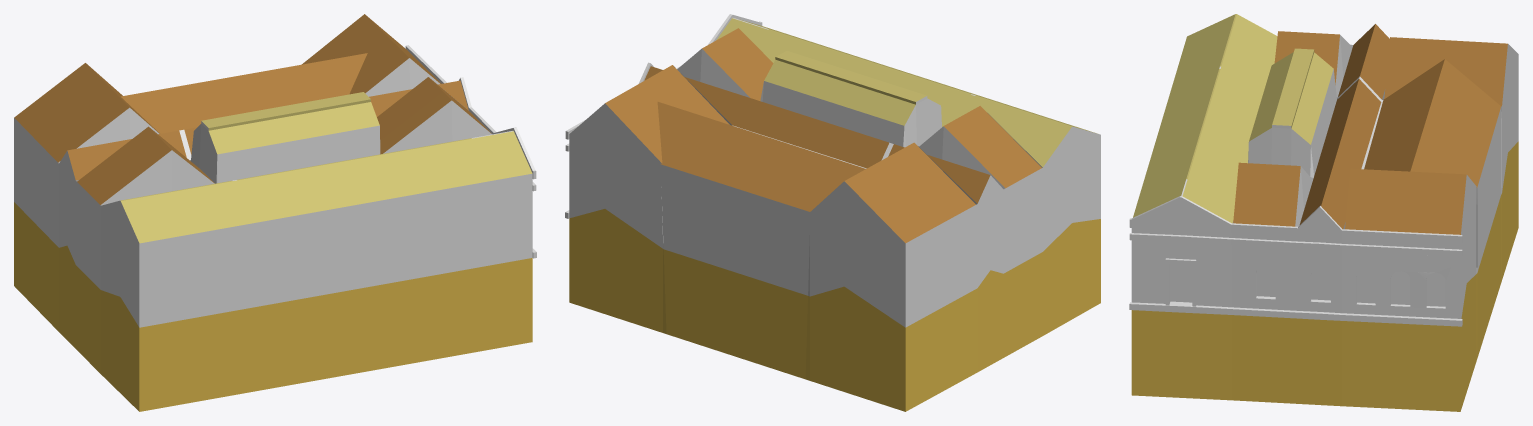
File: CesarTest.fbx
3 views of the same model, side by side, from view 1: azimuth 30°, elevation 25°; view 2: azimuth 150°, elevation 25°; view 3: azimuth 270°, elevation 25° (orthographic). The views are drawn at different scales.
Parts seen in each view (by area): view 1: cesar; view 2: cesar; view 3: cesar.
Part boxes in pixels (x1,y1,x2,y2): cesar: [14, 14, 536, 411]; cesar: [565, 14, 1100, 411]; cesar: [1129, 14, 1518, 411].
Size of the model in its own units: 500 by 256 by 405.
